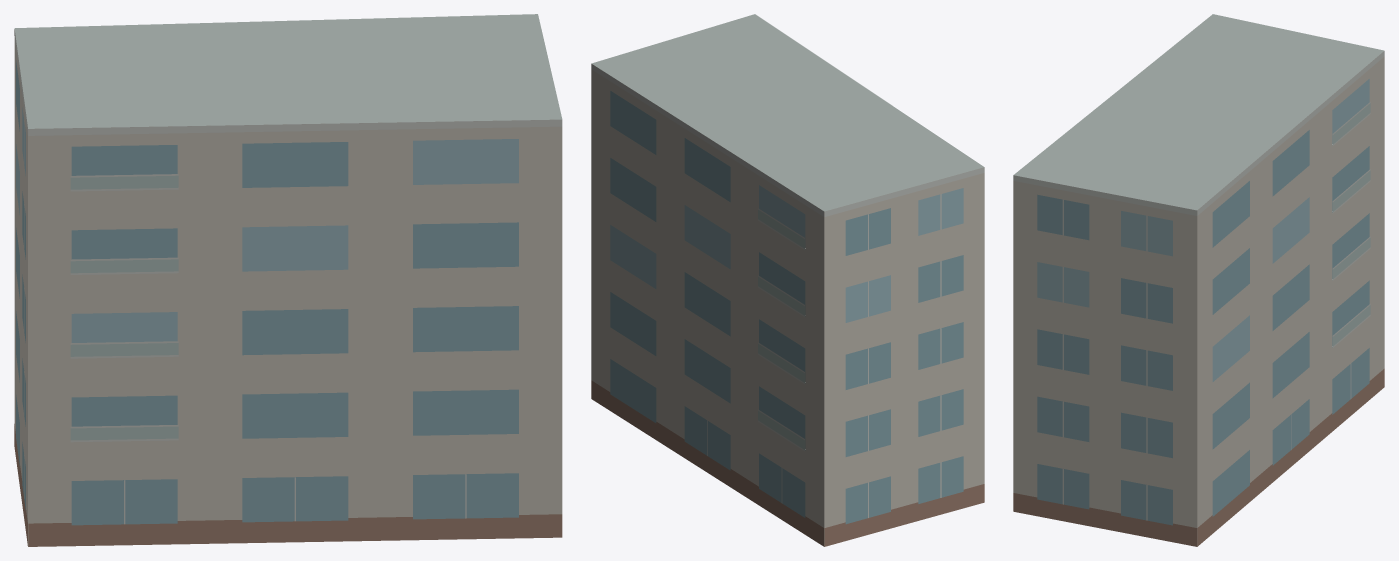
File: survey-upis-32881810.glb
The picture shows the model from 3 angles, left to right: view 1: azimuth 30°, elevation 25°; view 2: azimuth 150°, elevation 25°; view 3: azimuth 270°, elevation 25°; orthographic projection. The views are drawn at different scales.
Parts seen in each view (by area): view 1: survey-upis-32881810.tmp; view 2: survey-upis-32881810.tmp; view 3: survey-upis-32881810.tmp.
Part boxes in pixels (left/top/right/bottom): survey-upis-32881810.tmp: left=14, top=14, right=562, bottom=546; survey-upis-32881810.tmp: left=591, top=14, right=984, bottom=546; survey-upis-32881810.tmp: left=1013, top=14, right=1384, bottom=546.
Bounding box in the file's own units: 18.17 × 14.5 × 14.52.
